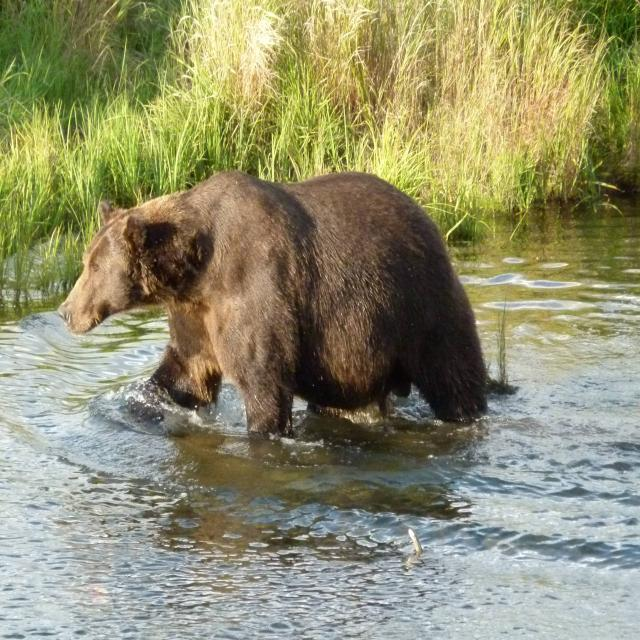bear face: (60, 173, 486, 427)
